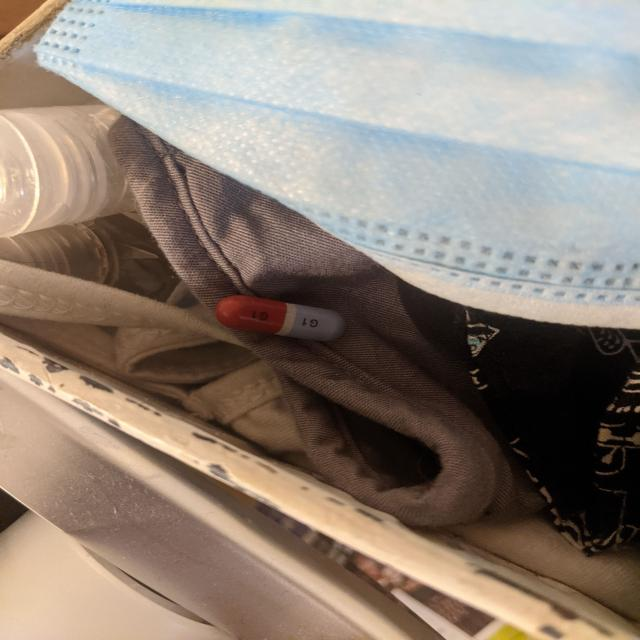non-organic waste: (214, 294, 349, 343)
